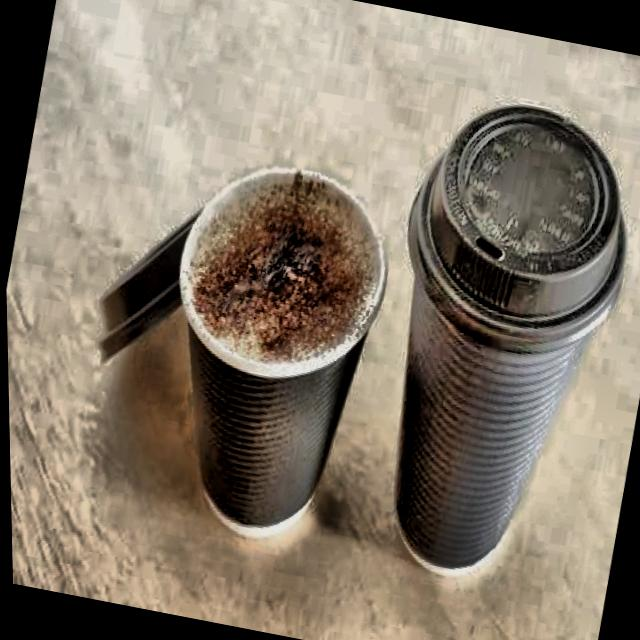Cup: (341, 123, 640, 629), (115, 146, 397, 582)
